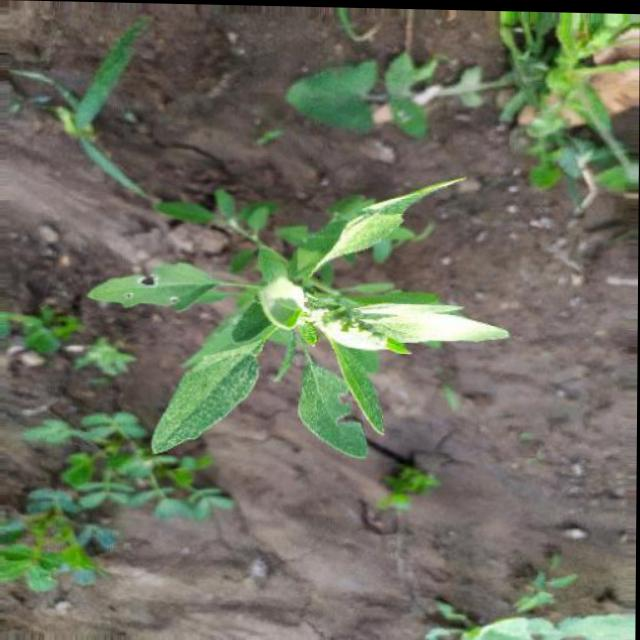weed: (100, 167, 516, 462)
